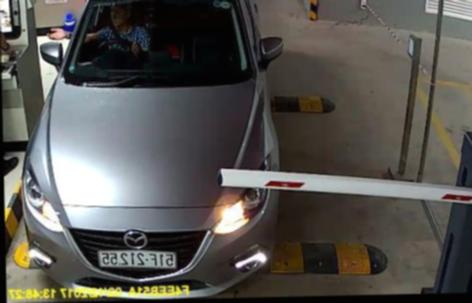License_Plate: (94, 242, 181, 271)
